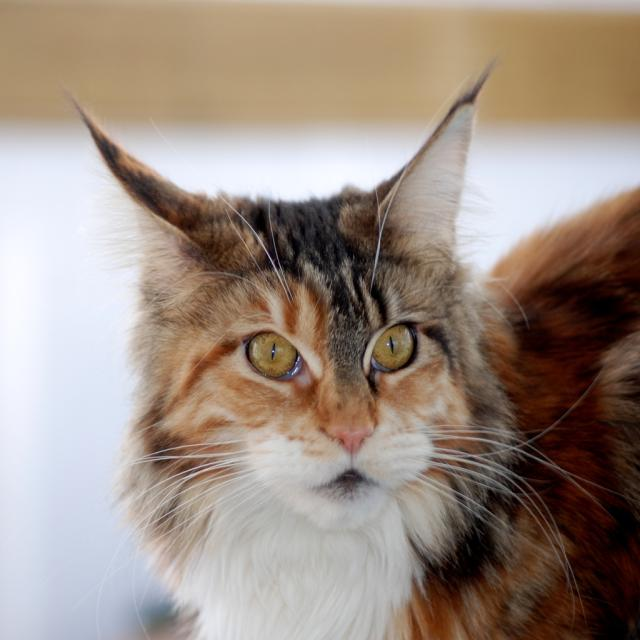Cat: (61, 56, 640, 640)
